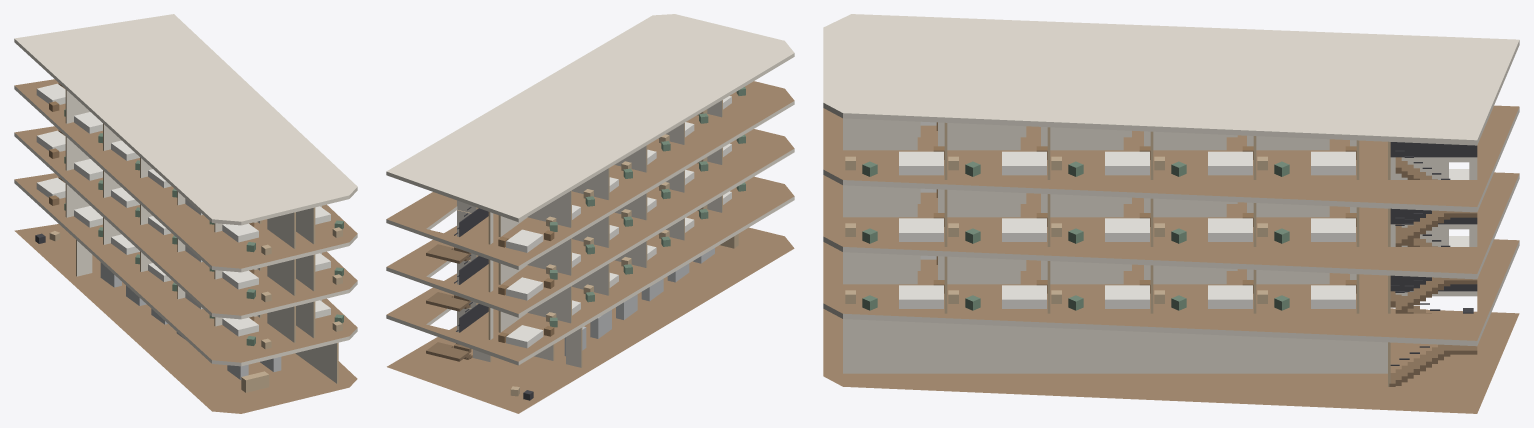
Rendered from interior.glb.
The picture shows the model from 3 angles, left to right: view 1: azimuth 30°, elevation 25°; view 2: azimuth 150°, elevation 25°; view 3: azimuth 270°, elevation 25°; orthographic projection. The views are drawn at different scales.
Visible parts, largest first — view 1: slabs, partitions, coarse-s3, coarse-s2, coarse-s1, coarse-s0; view 2: slabs, partitions, stair, coarse-s2, coarse-s3, coarse-s1, coarse-s0; view 3: slabs, partitions, coarse-s3, coarse-s2, coarse-s1, stair.
Part boxes in pixels (left/top/right/bottom): slabs: left=14, top=14, right=357, bottom=413; partitions: left=65, top=89, right=338, bottom=383; coarse-s3: left=36, top=83, right=343, bottom=255; coarse-s2: left=36, top=130, right=343, bottom=302; coarse-s1: left=36, top=177, right=343, bottom=349; coarse-s0: left=35, top=231, right=281, bottom=392; slabs: left=386, top=14, right=794, bottom=413; partitions: left=457, top=100, right=722, bottom=367; stair: left=426, top=207, right=488, bottom=361; coarse-s2: left=498, top=134, right=745, bottom=300; coarse-s3: left=498, top=87, right=745, bottom=252; coarse-s1: left=498, top=182, right=745, bottom=348; coarse-s0: left=510, top=234, right=738, bottom=400; slabs: left=823, top=14, right=1519, bottom=413; partitions: left=843, top=118, right=1477, bottom=386; coarse-s3: left=845, top=121, right=1356, bottom=176; coarse-s2: left=845, top=169, right=1469, bottom=243; coarse-s1: left=845, top=236, right=1469, bottom=310; stair: left=1389, top=142, right=1477, bottom=386.
Bounding box in the file's own units: 13.27 × 13.43 × 30.92.
